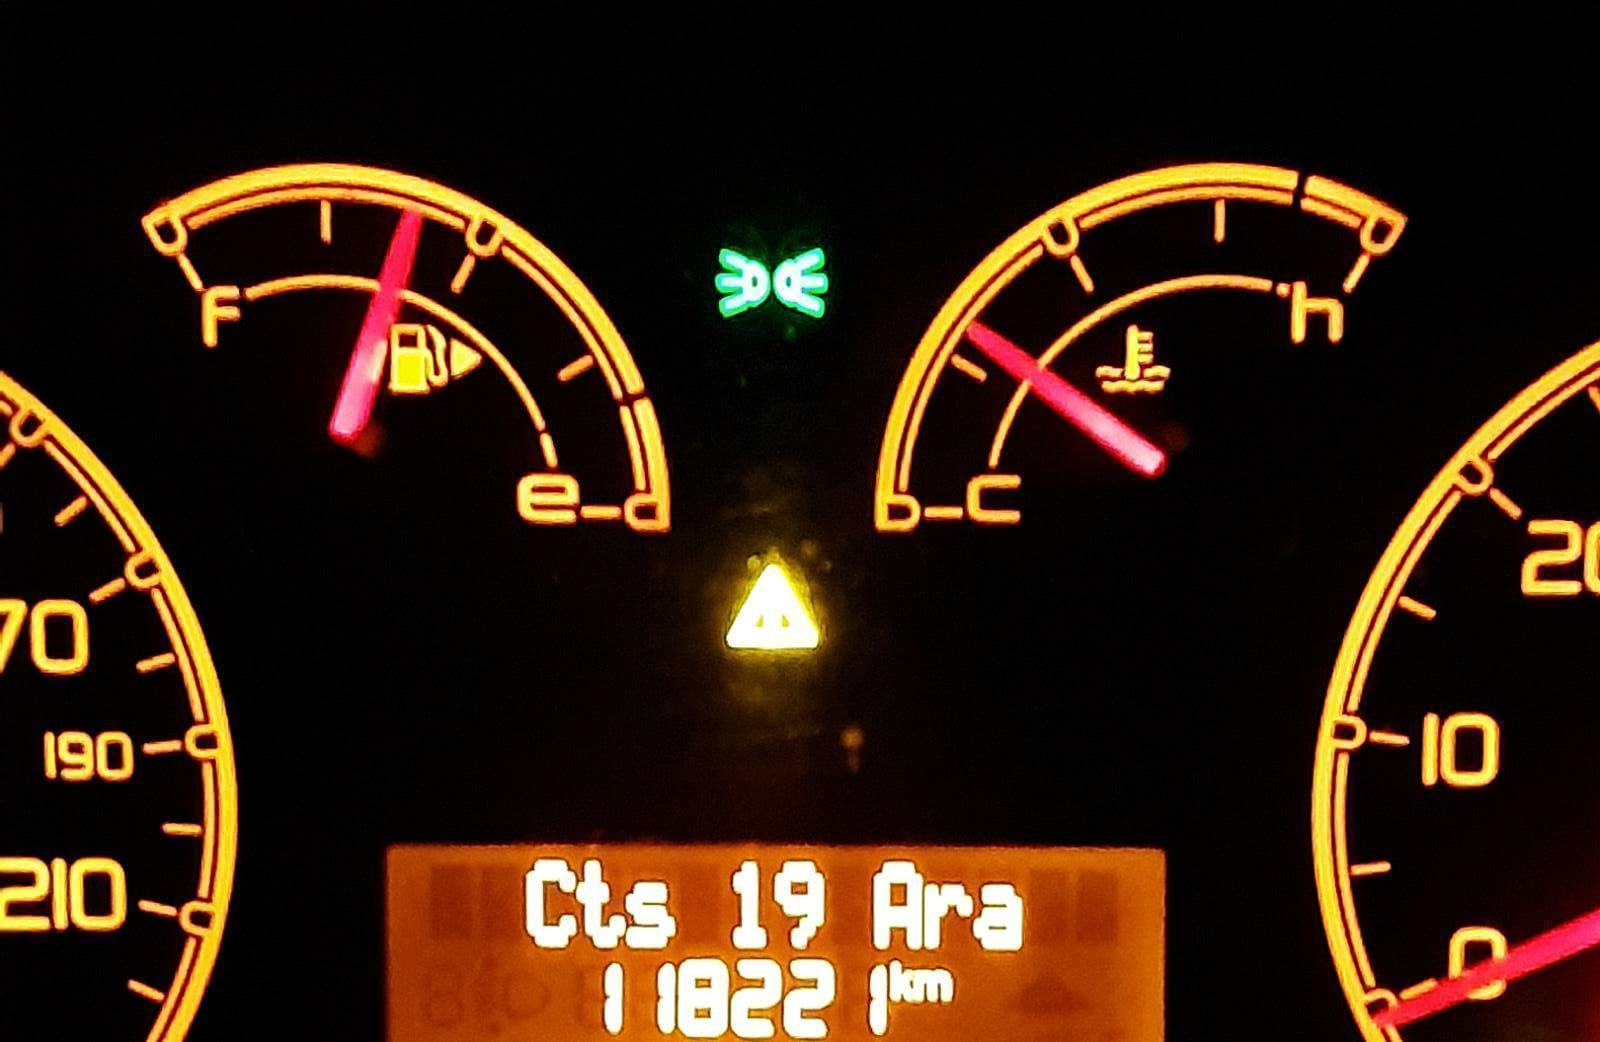1: (728, 859, 773, 949), (594, 957, 633, 1034), (651, 959, 673, 1040), (869, 966, 891, 1036)
2: (730, 956, 781, 1040), (783, 956, 833, 1039)
8: (675, 951, 730, 1041)
9: (773, 856, 831, 951)
X: (522, 858, 578, 950), (578, 858, 627, 948), (873, 863, 920, 946), (922, 879, 973, 946), (626, 883, 671, 946), (978, 888, 1023, 950), (915, 970, 953, 1007), (891, 957, 915, 1004)
odometer: (362, 833, 1190, 1042)
